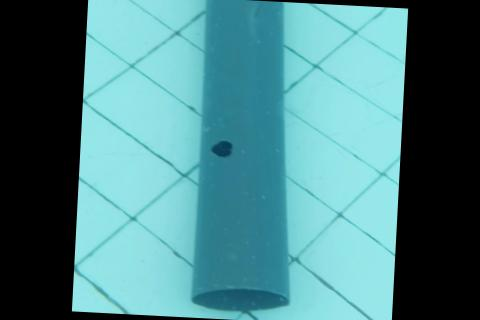kebocoran: (208, 138, 233, 157)
keretakan: (253, 0, 276, 16)
